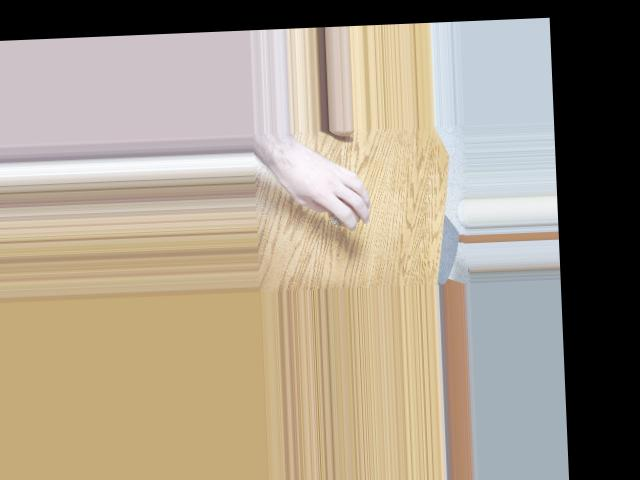onion: (325, 191, 363, 226)
